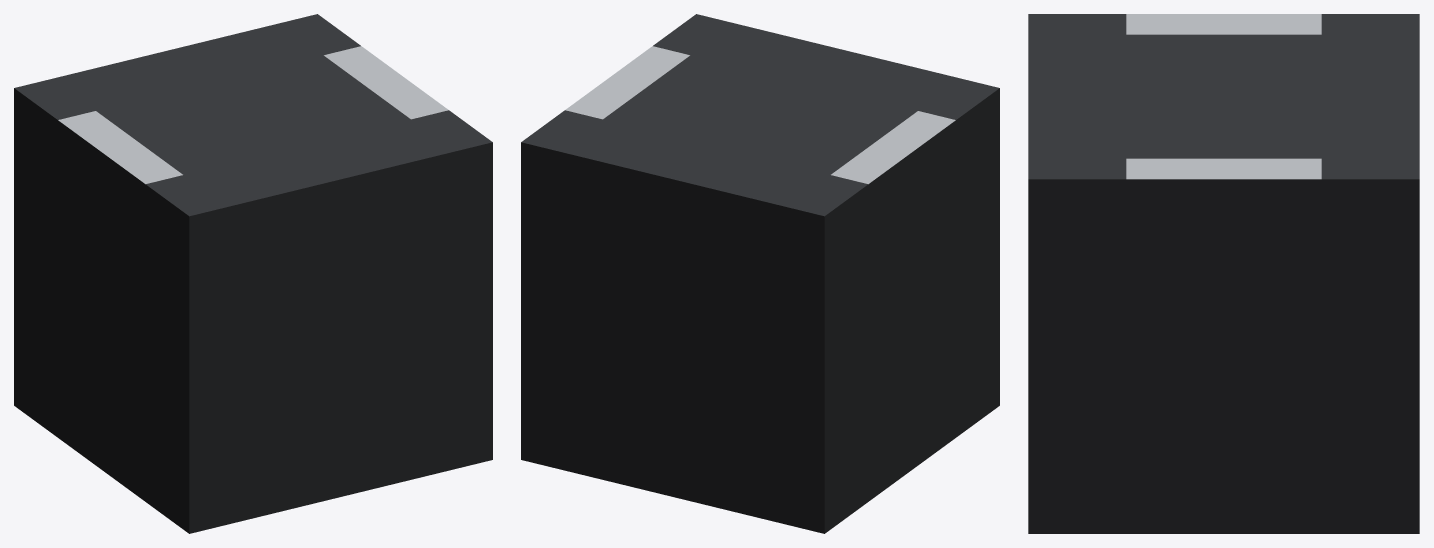
File: Road_Middle.glb
3 views of the same model, side by side, from view 1: azimuth 30°, elevation 25°; view 2: azimuth 150°, elevation 25°; view 3: azimuth 270°, elevation 25° (orthographic). The views are drawn at different scales.
Parts seen in each view (by area): view 1: Cube.001; view 2: Cube.001; view 3: Cube.001.
Part boxes in pixels (x1,y1,x2,y2): Cube.001: (14,14,492,533); Cube.001: (521,14,999,533); Cube.001: (1028,14,1419,533).
Bounding box in the file's own units: 2 × 2 × 2.
1 material, 1 textured.
